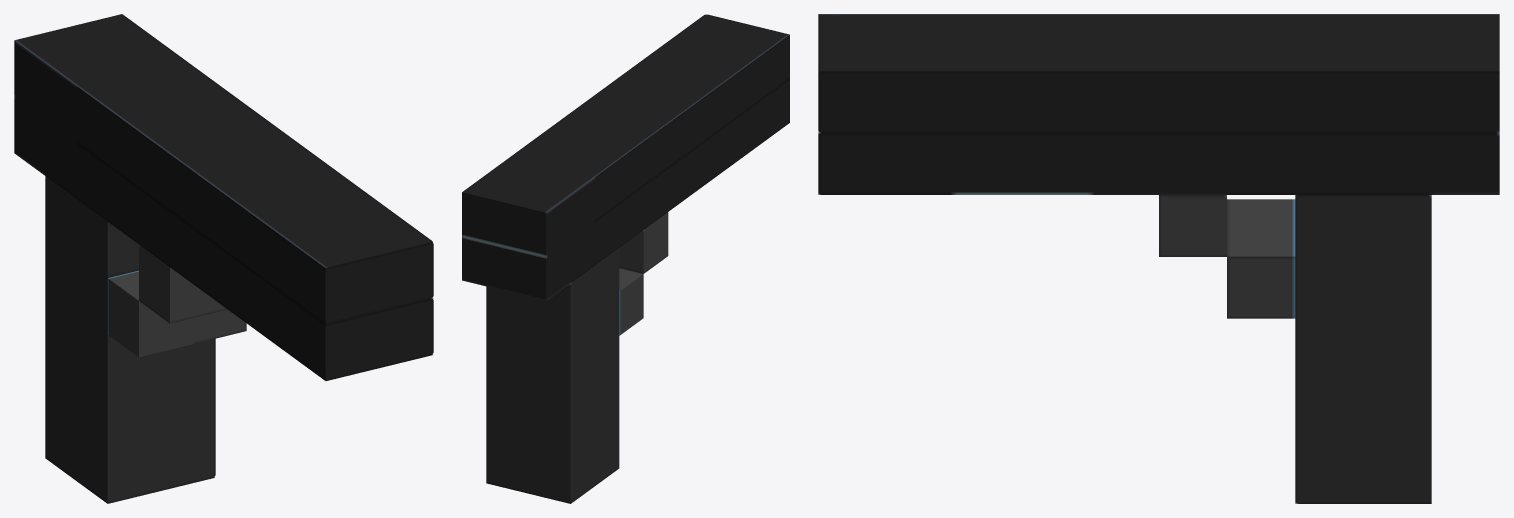
File: pistol1.obj
3 renders of one model, left to right at view 1: azimuth 30°, elevation 25°; view 2: azimuth 150°, elevation 25°; view 3: azimuth 270°, elevation 25°, orthographic. The views are drawn at different scales.
Parts seen in each view (by area): view 1: cube; view 2: cube; view 3: cube.
Part boxes in pixels (left/top/right/bottom): cube: left=14, top=14, right=433, bottom=503; cube: left=462, top=14, right=789, bottom=503; cube: left=818, top=14, right=1499, bottom=503.
Bounding box in the file's own units: 2 × 7 × 10.
Materials: 1 (1 with a texture image).
